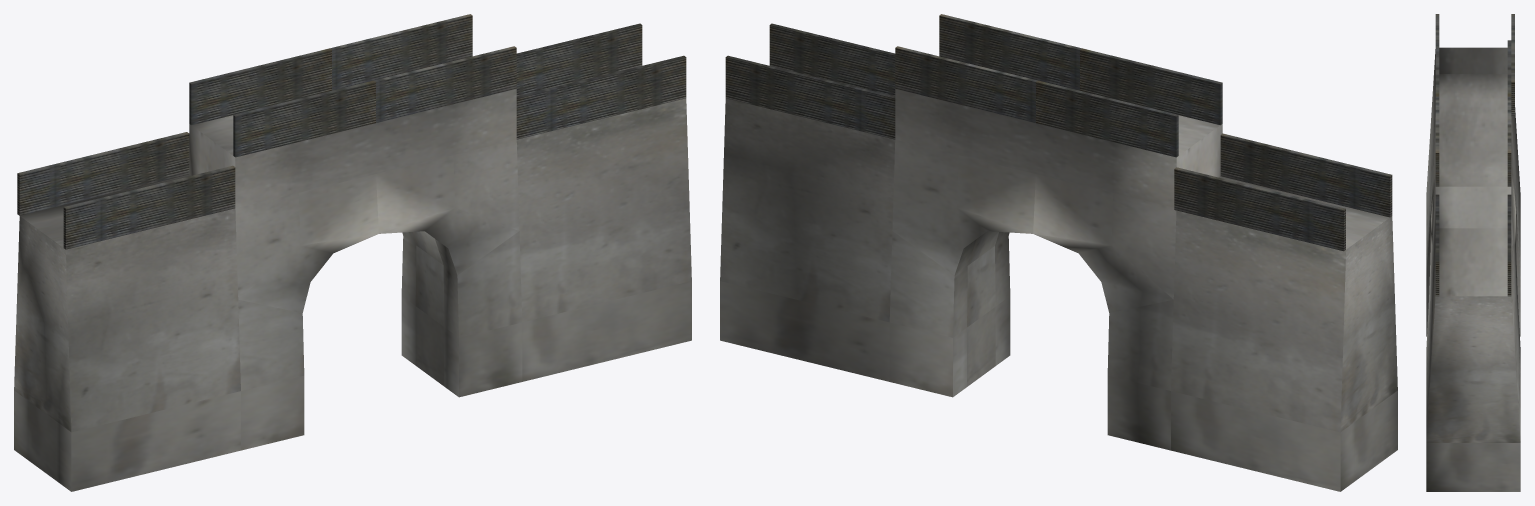
File: wall_gate.dae
3 views of the same model, side by side, from view 1: azimuth 30°, elevation 25°; view 2: azimuth 150°, elevation 25°; view 3: azimuth 270°, elevation 25° (orthographic). The views are drawn at different scales.
Parts seen in each view (by area): view 1: wall_gate; view 2: wall_gate; view 3: wall_gate.
Part boxes in pixels (box(x1,y1,x2,y2)): wall_gate: box(14, 14, 691, 491); wall_gate: box(720, 14, 1397, 491); wall_gate: box(1426, 14, 1520, 491).
Bounding box in the file's own units: 34.75 × 5.57 × 17.66.
1 material, 1 textured.
